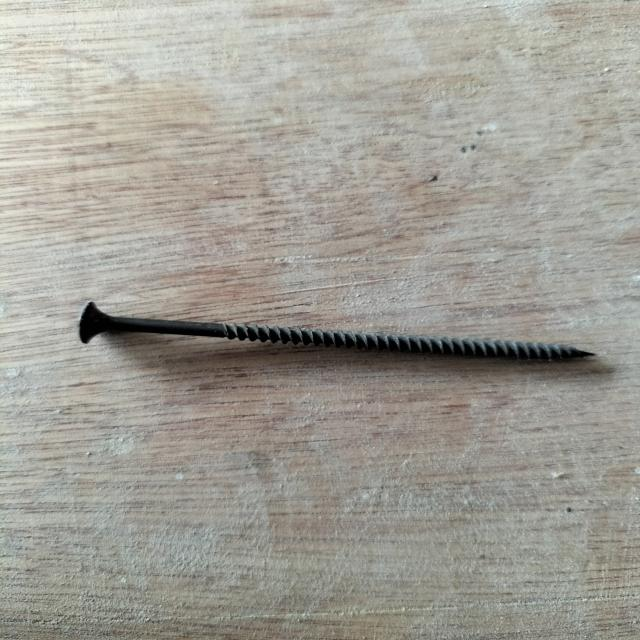screw: (78, 301, 596, 374)
